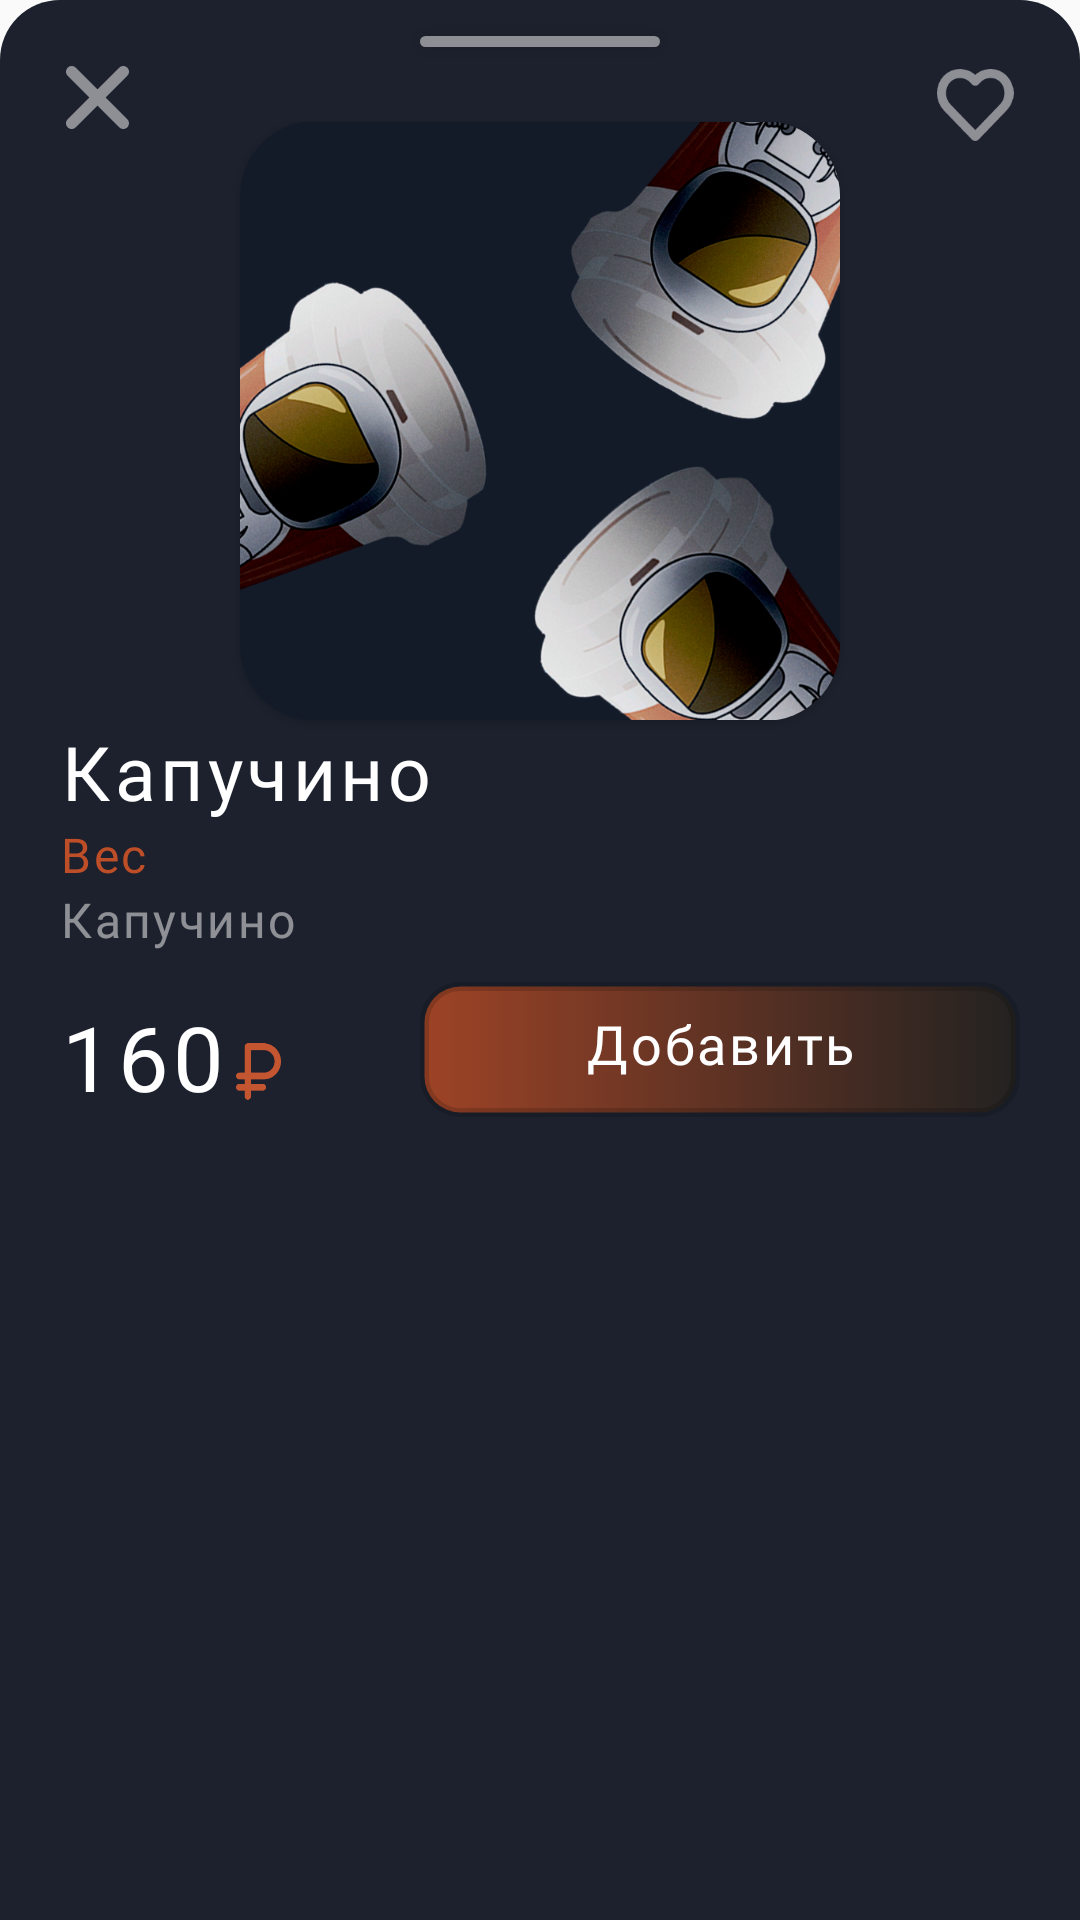

Icons on this 1080*1920 Android screen, each with its box as (left=x1, top=y1, right=x2, bottom=y2):
crossik: (left=66, top=66, right=129, bottom=129)
heart: (left=937, top=69, right=1014, bottom=141)
rub: (left=236, top=1043, right=281, bottom=1100)
